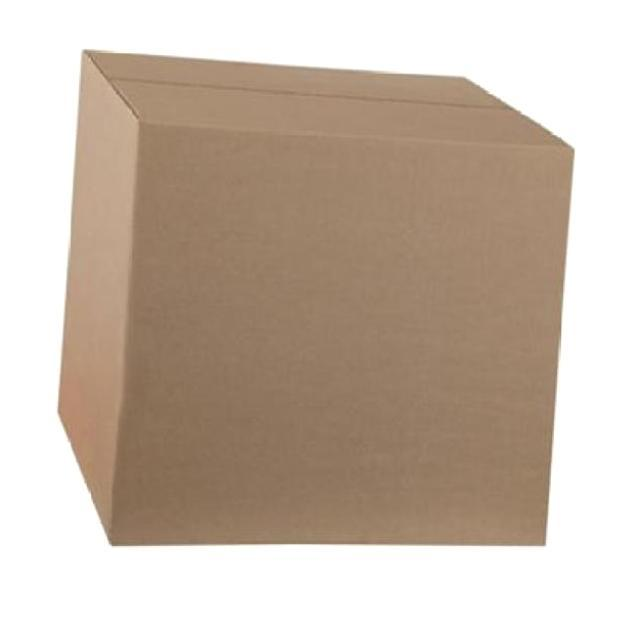box: (55, 49, 576, 547)
